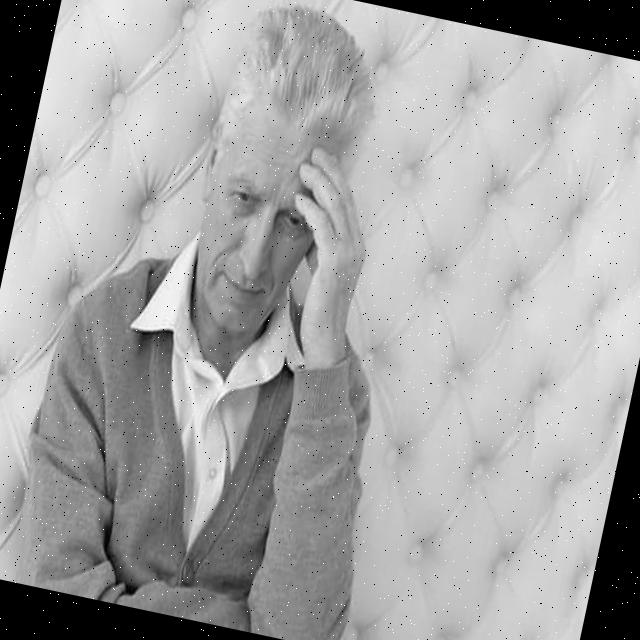Sadness: (188, 113, 338, 347)
